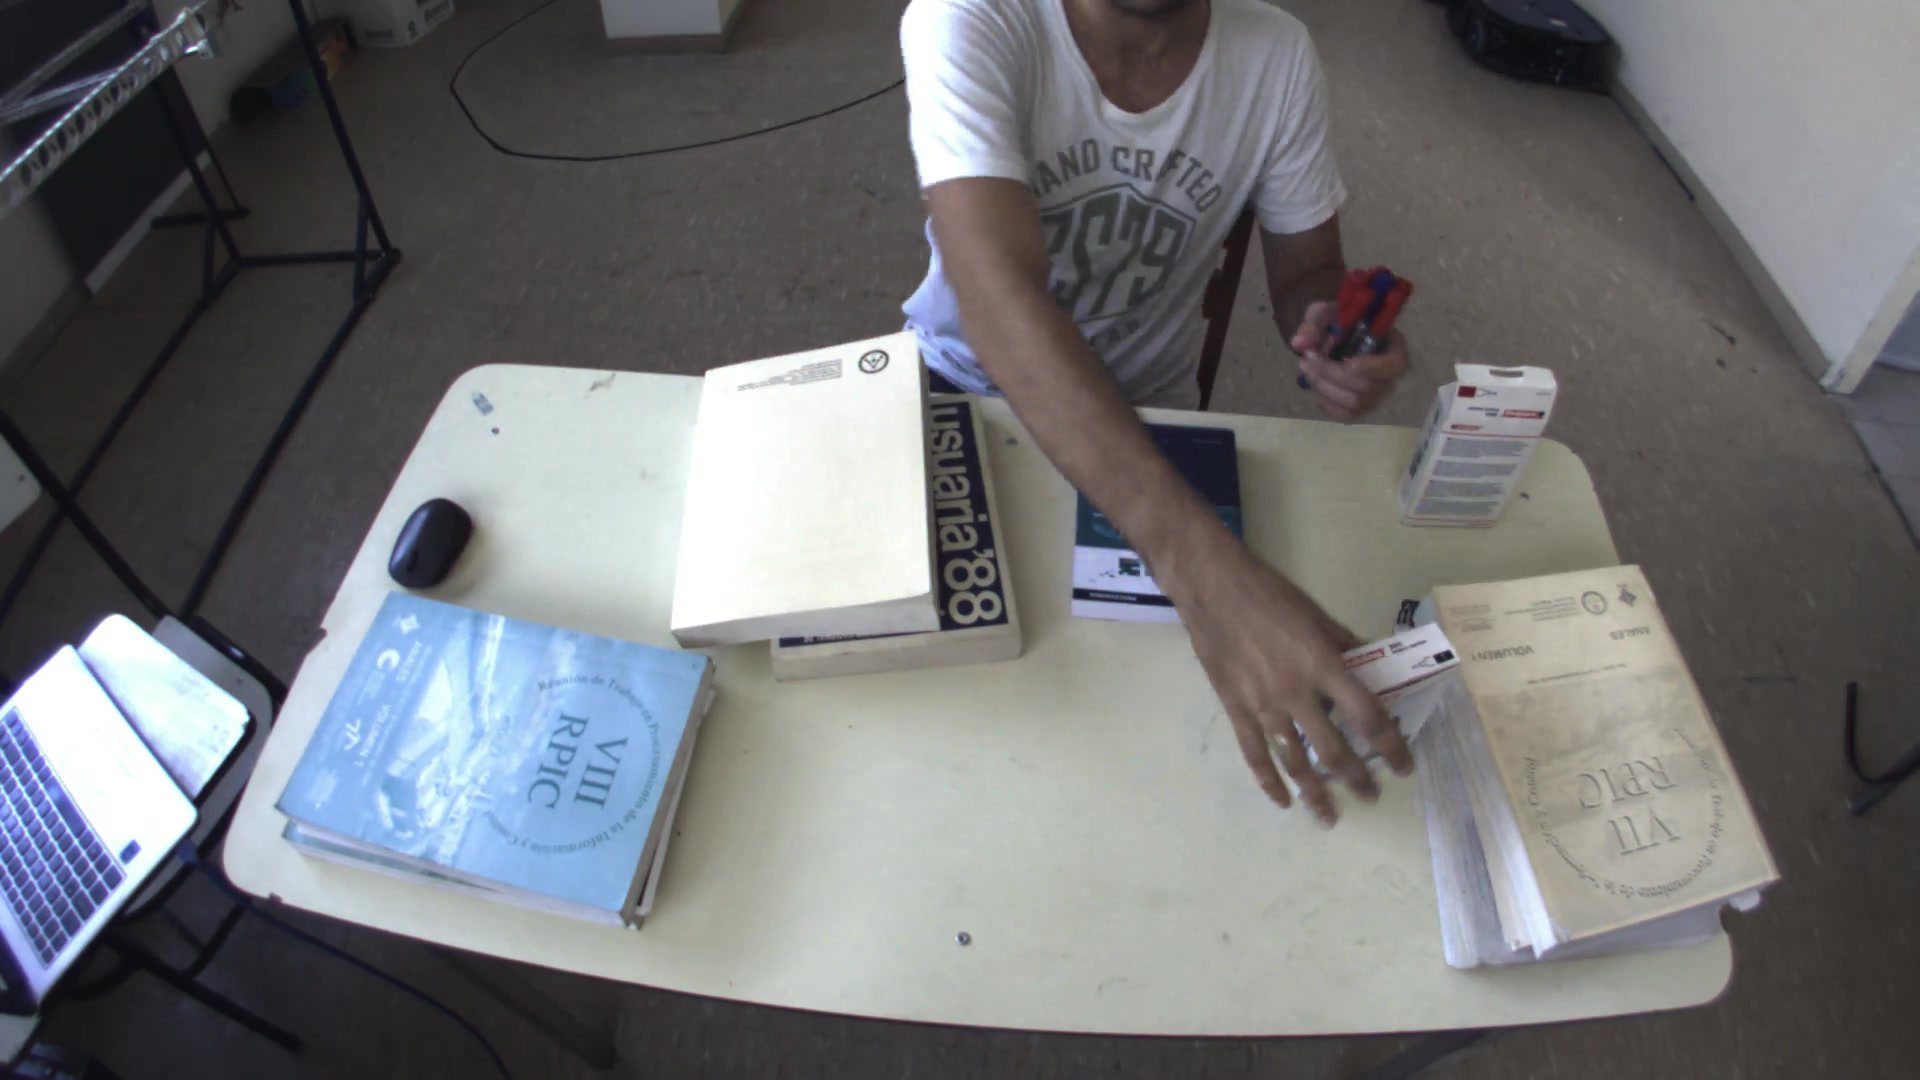hand: (1182, 592, 1423, 819), (1284, 298, 1416, 439)
